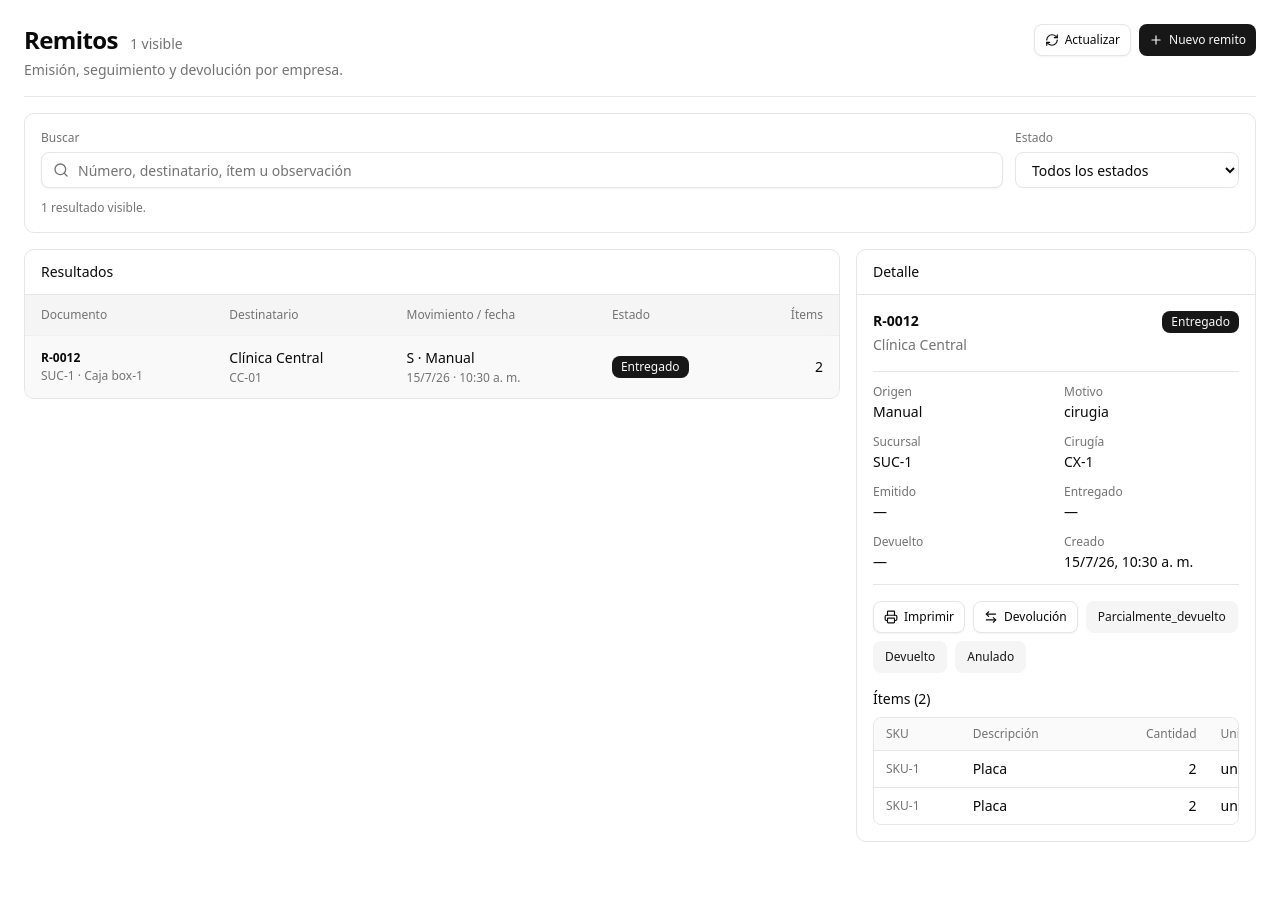
Test: RemitosPage › nombra de forma única cada cantidad de devolución según su ítem
Step 1. Click the button "Devolución" → (1025,617), box x1=973 y1=601 x2=1078 y2=633
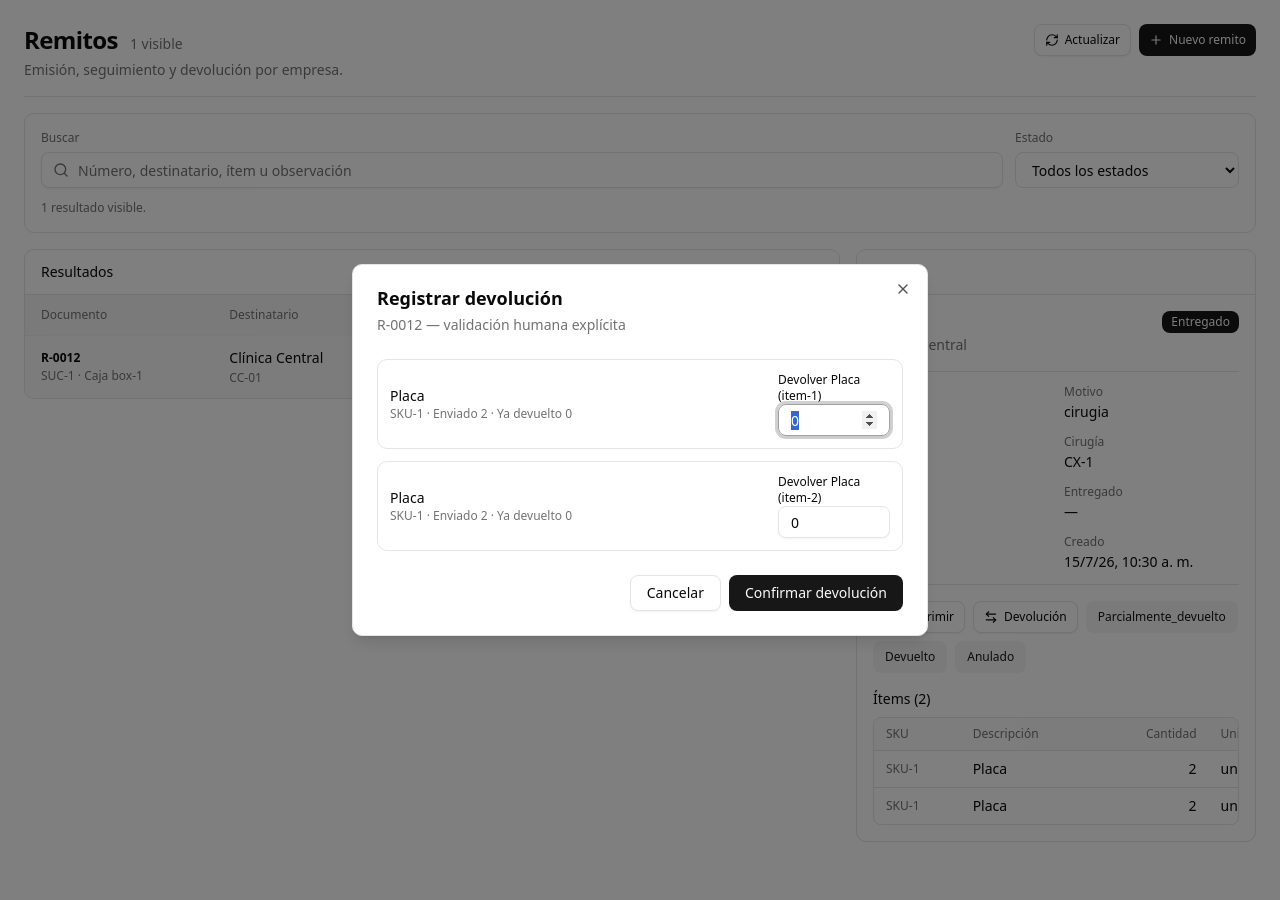
Now the number field labelled "Devolver Placa (item-1)" is shown, box x1=778 y1=404 x2=890 y2=436
Now the number field labelled "Devolver Placa (item-2)" is shown, box x1=778 y1=506 x2=890 y2=538
